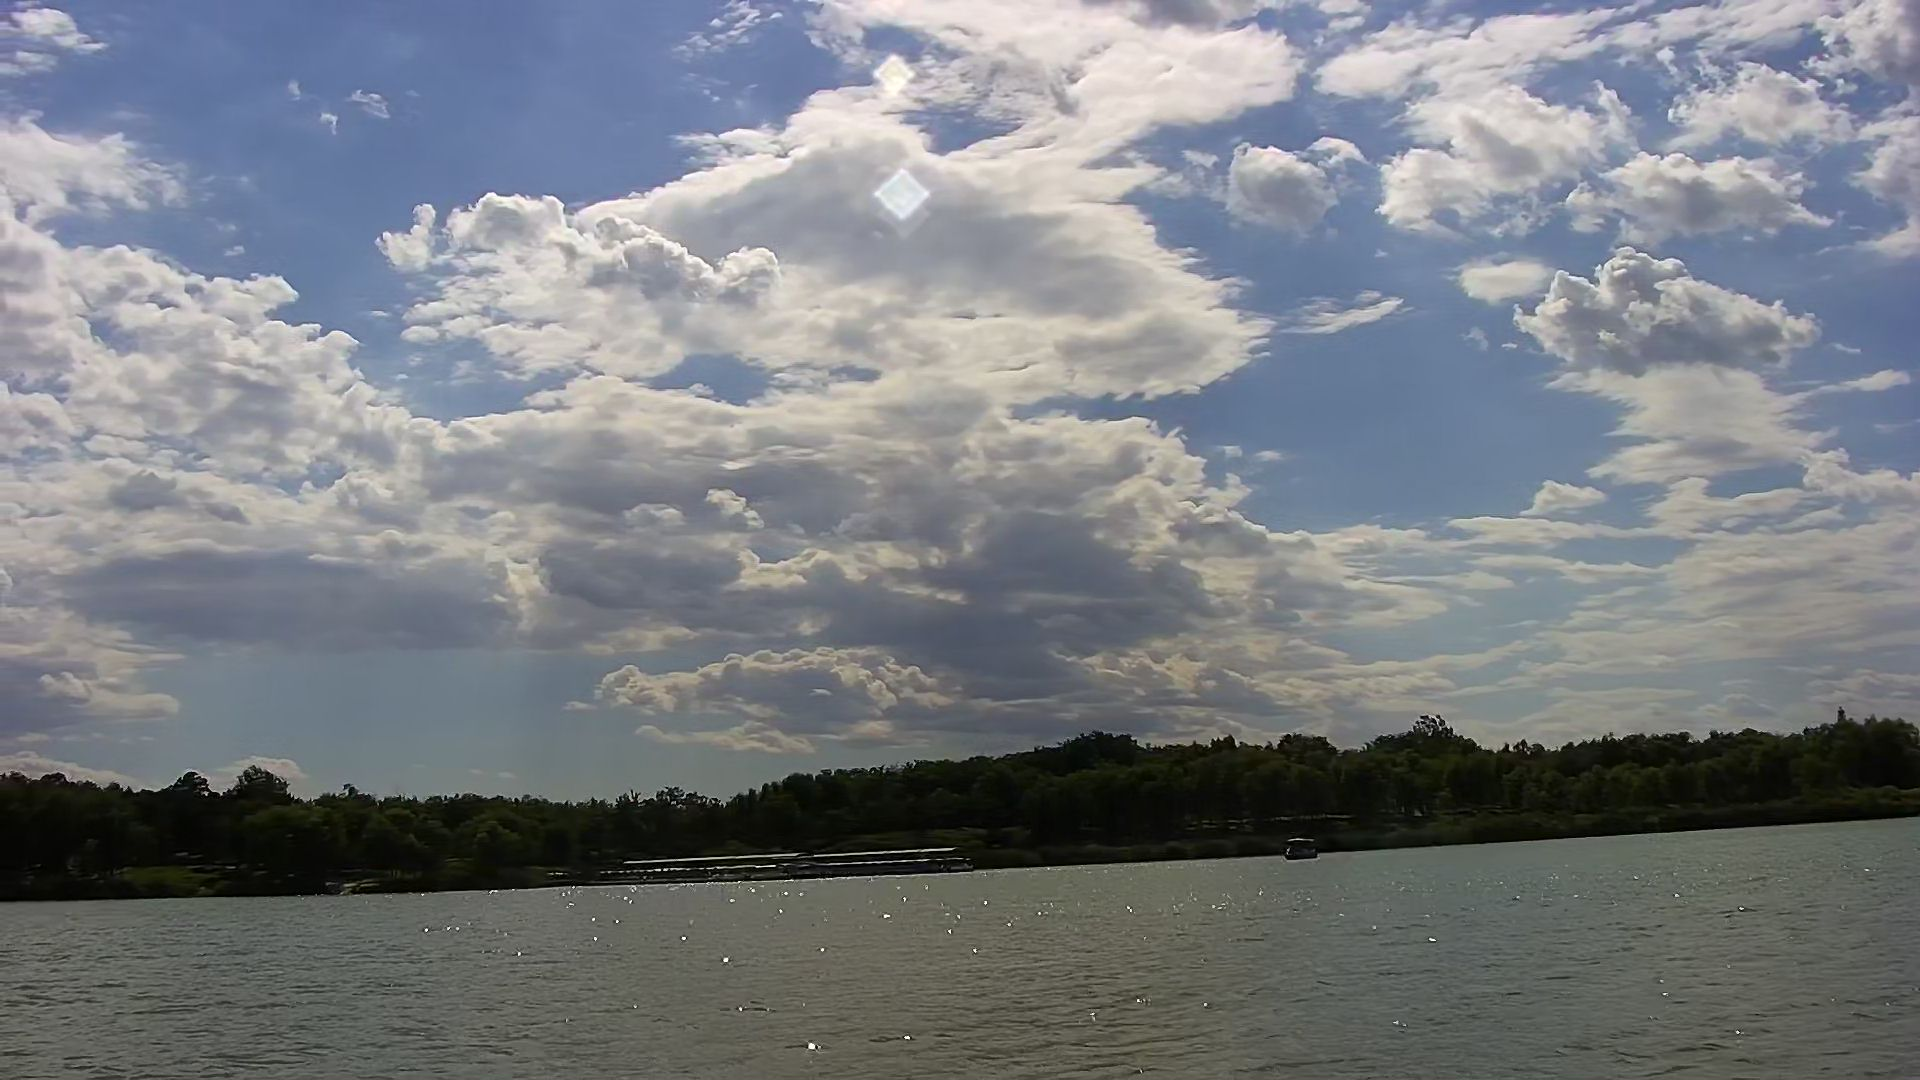boat: (1280, 831, 1320, 861)
harbor: (611, 845, 965, 885)
